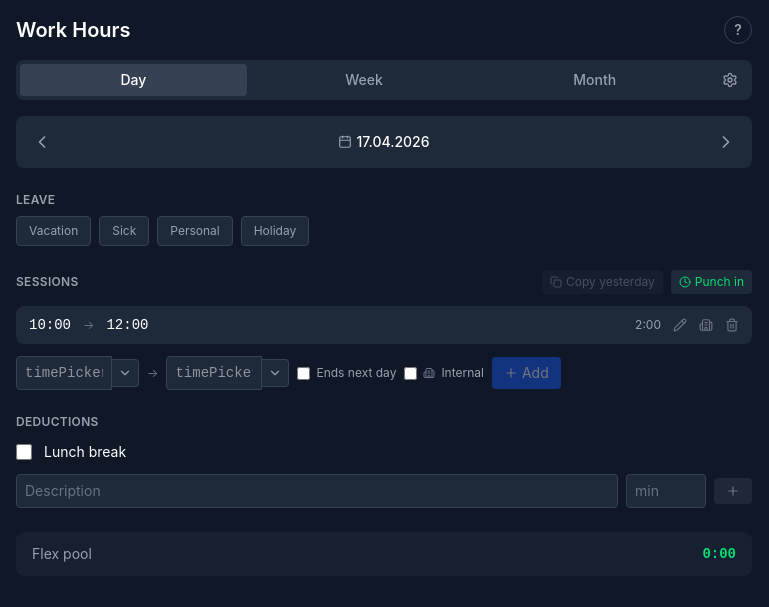
DayView session conflict messages › clears the conflict when the session it names is deleted
Expected: the text "10:00" is shown, left=29, top=315, right=71, bottom=335
Type "09:00" into the dropdown named "Start time". click: {"x": 64, "y": 373}
box: left=16, top=356, right=112, bottom=390
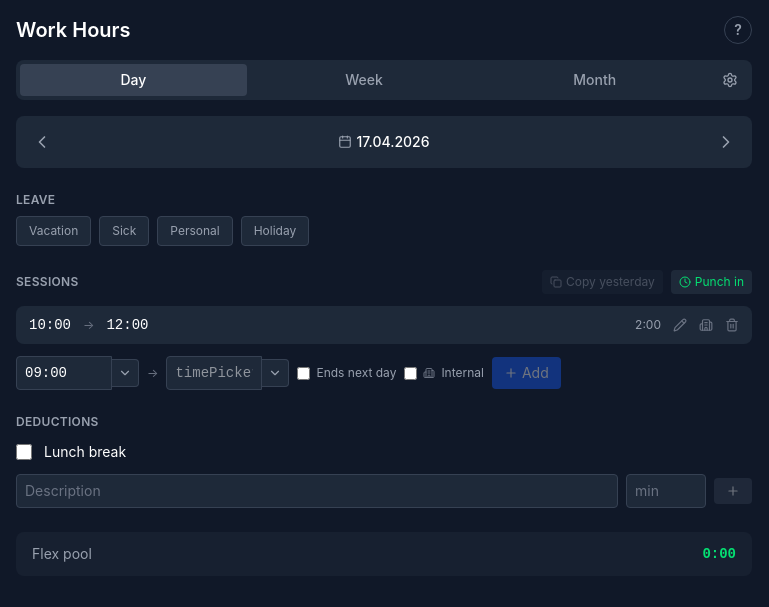
Type "11:00" into the dropdown named "End time". click: {"x": 214, "y": 373}
box: left=166, top=356, right=262, bottom=390
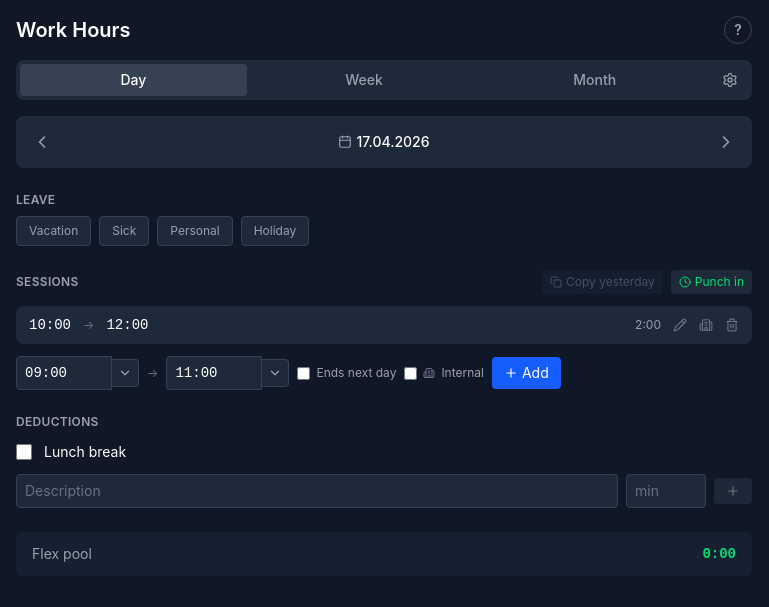
Click the button "Add". click: {"x": 526, "y": 373}
box: left=492, top=357, right=561, bottom=389
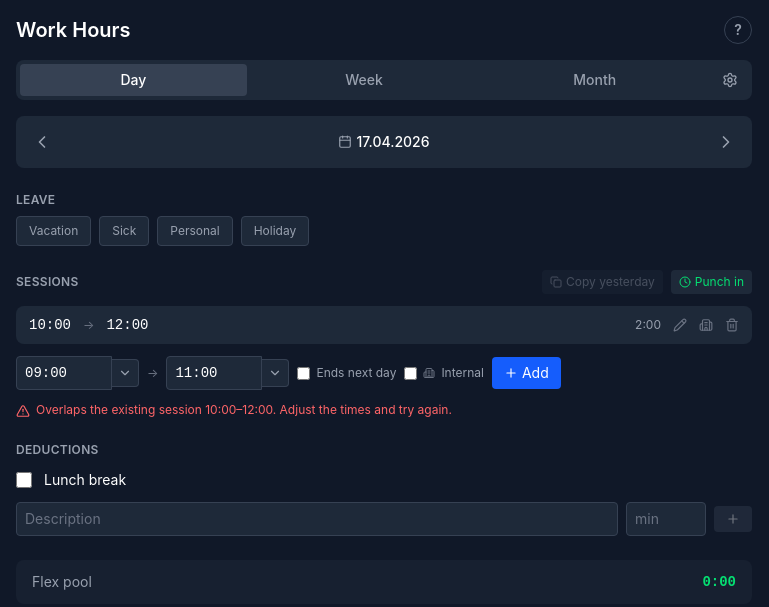
Result: the message "Overlaps the existing session 10:00–12:00. Adjust the times and try again." is shown at left=16, top=402, right=452, bottom=418
Click the button named "Remove session". click: {"x": 732, "y": 325}
box: left=725, top=318, right=739, bottom=332
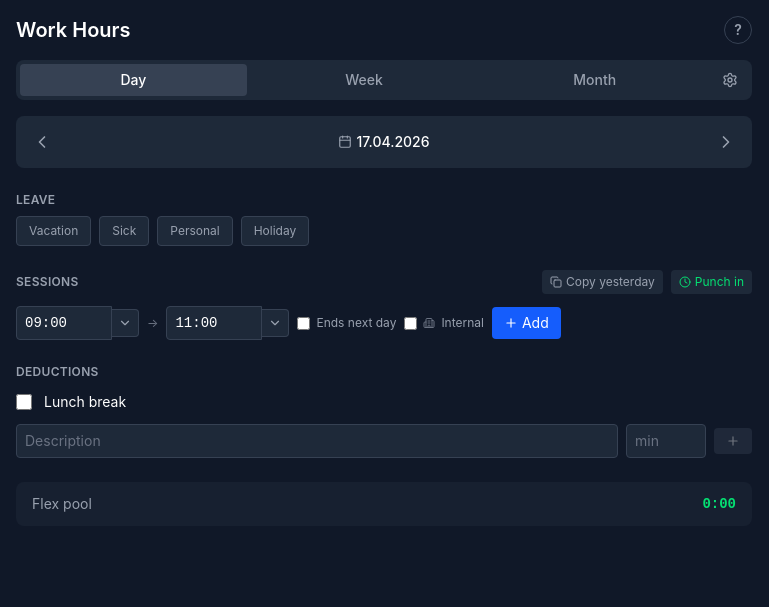
Result: the message "Overlaps the existing session 10:00–12:00. Adjust the times and try again." is gone
